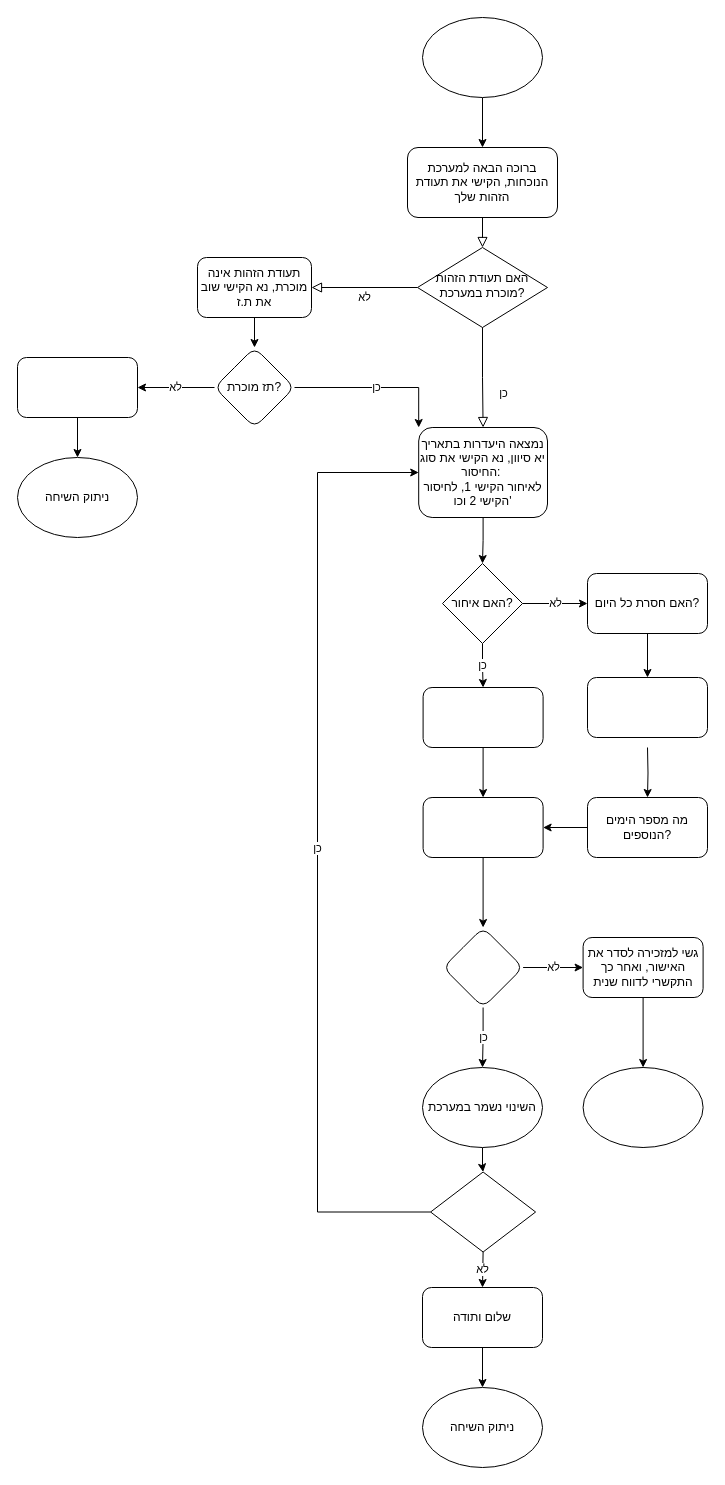
Image size: 725x1485. Some labels were removed from this diagram. The shapes that lost their labels are listed below. From the top down, each one's centre as x and y in pixels, then its label:
(x=482, y=57): התלמידה מתקשרת למערכת
(x=77, y=387): נא גשי למזכירה לתקן את מ.ז. במערכת הנוכחות
(x=482, y=717): הקישי את מספר השיעור ביום
(x=647, y=707): האם נעדרת ימים נוספים?
(x=482, y=827): האם הגשת כבר אישור?
(x=482, y=967): האם הגישה אישור?
(x=483, y=1211): האם קיים חיסור נוסף?
